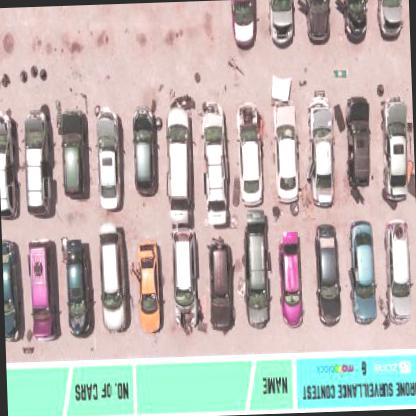car: (241, 210, 270, 326), (305, 96, 335, 206), (98, 221, 127, 334), (26, 238, 58, 340), (384, 217, 414, 325), (62, 234, 93, 336), (348, 220, 378, 325), (200, 103, 226, 224), (20, 108, 48, 218), (344, 97, 371, 205), (93, 108, 121, 211), (314, 224, 340, 326), (134, 238, 160, 332), (130, 104, 156, 196), (0, 109, 21, 221), (228, 0, 260, 49), (265, 0, 295, 48)
